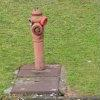a fire hydrant: (30, 6, 48, 67)
